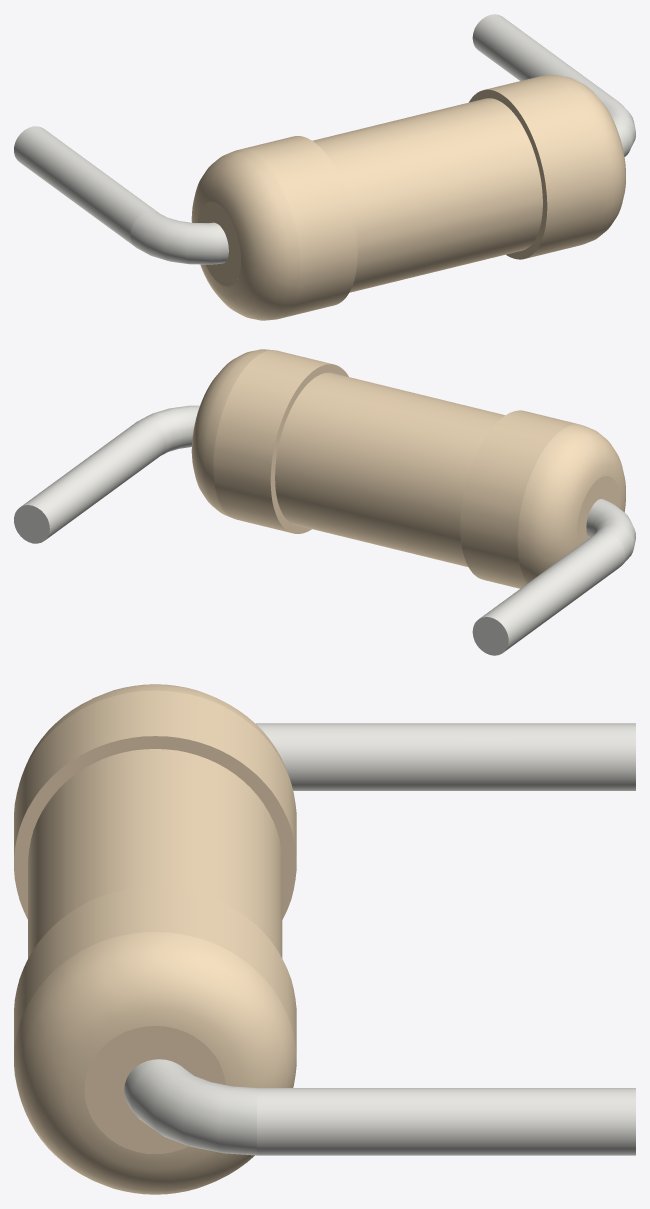
File: R_Axial_DIN0207_L6.3mm_D2.5mm_P7.62mm_Horizontal.glb
3 renders of one model, top to bottom at view 1: azimuth 30°, elevation 25°; view 2: azimuth 150°, elevation 25°; view 3: azimuth 270°, elevation 25°, orthographic. The views are drawn at different scales.
Visible parts, largest first — view 1: Shape_IndexedFaceSet.004, Shape_IndexedFaceSet.001, Shape_IndexedFaceSet, Shape_IndexedFaceSet.008, Shape_IndexedFaceSet.007, Shape_IndexedFaceSet.013, Shape_IndexedFaceSet.005, Shape_IndexedFaceSet.010, Shape_IndexedFaceSet.003, Shape_IndexedFaceSet.006, Shape_IndexedFaceSet.012; view 2: Shape_IndexedFaceSet.004, Shape_IndexedFaceSet.008, Shape_IndexedFaceSet, Shape_IndexedFaceSet.001, Shape_IndexedFaceSet.013, Shape_IndexedFaceSet.007, Shape_IndexedFaceSet.010, Shape_IndexedFaceSet.005, Shape_IndexedFaceSet.012, Shape_IndexedFaceSet.006, Shape_IndexedFaceSet.003, Shape_IndexedFaceSet.009 (+1 smaller); view 3: Shape_IndexedFaceSet.010, Shape_IndexedFaceSet.004, Shape_IndexedFaceSet.013, Shape_IndexedFaceSet.007, Shape_IndexedFaceSet.008, Shape_IndexedFaceSet, Shape_IndexedFaceSet.012, Shape_IndexedFaceSet.011, Shape_IndexedFaceSet.002, Shape_IndexedFaceSet.001.
Boxes of the visible parts, x1,y1,x2,y2 form: Shape_IndexedFaceSet.004: (312,98,542,292); Shape_IndexedFaceSet.001: (191,150,300,320); Shape_IndexedFaceSet: (237,136,357,318); Shape_IndexedFaceSet.008: (484,75,604,258); Shape_IndexedFaceSet.007: (14,126,158,246); Shape_IndexedFaceSet.013: (472,14,617,101); Shape_IndexedFaceSet.005: (130,211,228,264); Shape_IndexedFaceSet.010: (546,75,625,243); Shape_IndexedFaceSet.003: (198,201,240,286); Shape_IndexedFaceSet.006: (469,89,547,259); Shape_IndexedFaceSet.012: (602,99,635,156); Shape_IndexedFaceSet.004: (275,372,504,567); Shape_IndexedFaceSet.008: (213,350,332,532); Shape_IndexedFaceSet: (460,410,579,588); Shape_IndexedFaceSet.001: (517,424,625,583); Shape_IndexedFaceSet.013: (21,419,166,539); Shape_IndexedFaceSet.007: (479,532,624,651); Shape_IndexedFaceSet.010: (191,349,273,517); Shape_IndexedFaceSet.005: (586,499,635,564); Shape_IndexedFaceSet.012: (139,405,199,455); Shape_IndexedFaceSet.006: (270,364,348,533); Shape_IndexedFaceSet.003: (577,476,620,546); Shape_IndexedFaceSet.009: (472,617,508,655); Shape_IndexedFaceSet.010: (14,932,296,1194); Shape_IndexedFaceSet.004: (28,749,282,958); Shape_IndexedFaceSet.013: (257,1088,635,1155); Shape_IndexedFaceSet.007: (257,723,635,790); Shape_IndexedFaceSet.008: (14,886,296,1052); Shape_IndexedFaceSet: (14,690,296,856); Shape_IndexedFaceSet.012: (124,1059,256,1155); Shape_IndexedFaceSet.011: (84,1026,225,1153); Shape_IndexedFaceSet.002: (14,736,296,919); Shape_IndexedFaceSet.001: (21,684,290,780).
Size of the model in its own units: 3.23 by 0.984 by 2.17.
